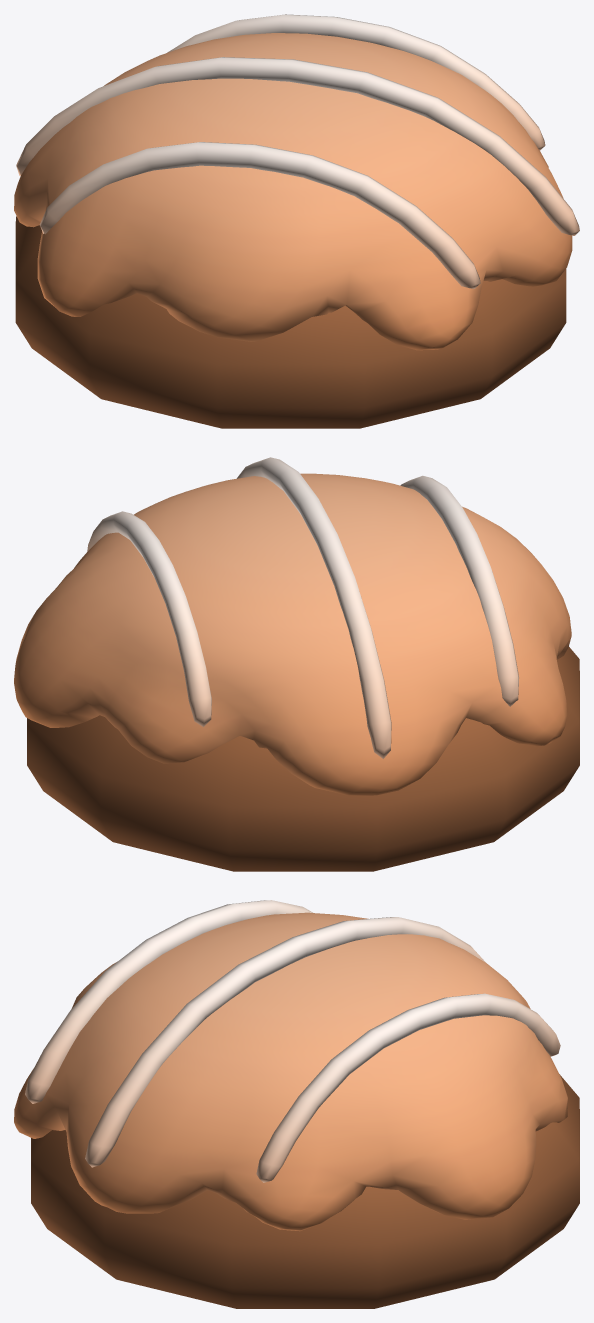
The model's file is candy_choco_22.fbx.
3 views of the same model, one above another, from view 1: azimuth 30°, elevation 25°; view 2: azimuth 150°, elevation 25°; view 3: azimuth 270°, elevation 25° (orthographic).
Visible parts, largest first — view 1: c_c_22; view 2: c_c_22; view 3: c_c_22.
Boxes of the visible parts, x1=… form: c_c_22: x1=14, y1=14, x2=579, y2=428; c_c_22: x1=14, y1=457, x2=579, y2=871; c_c_22: x1=14, y1=900, x2=579, y2=1308.
Size of the model in its own units: 147 by 78.32 by 148.
